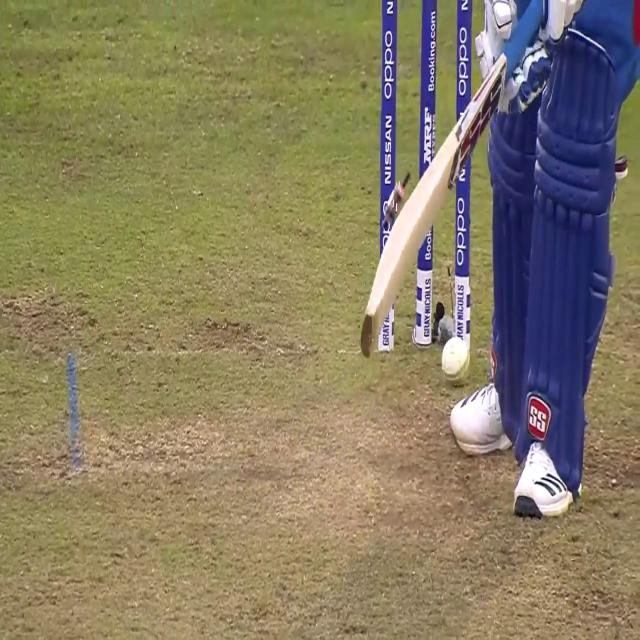ball: (442, 336, 470, 382)
